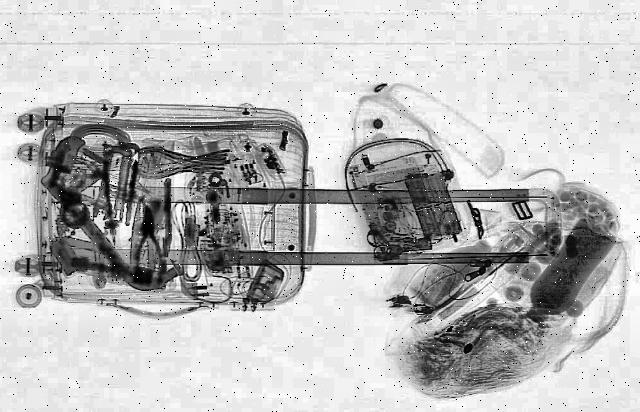Pliers: (130, 203, 168, 275)
